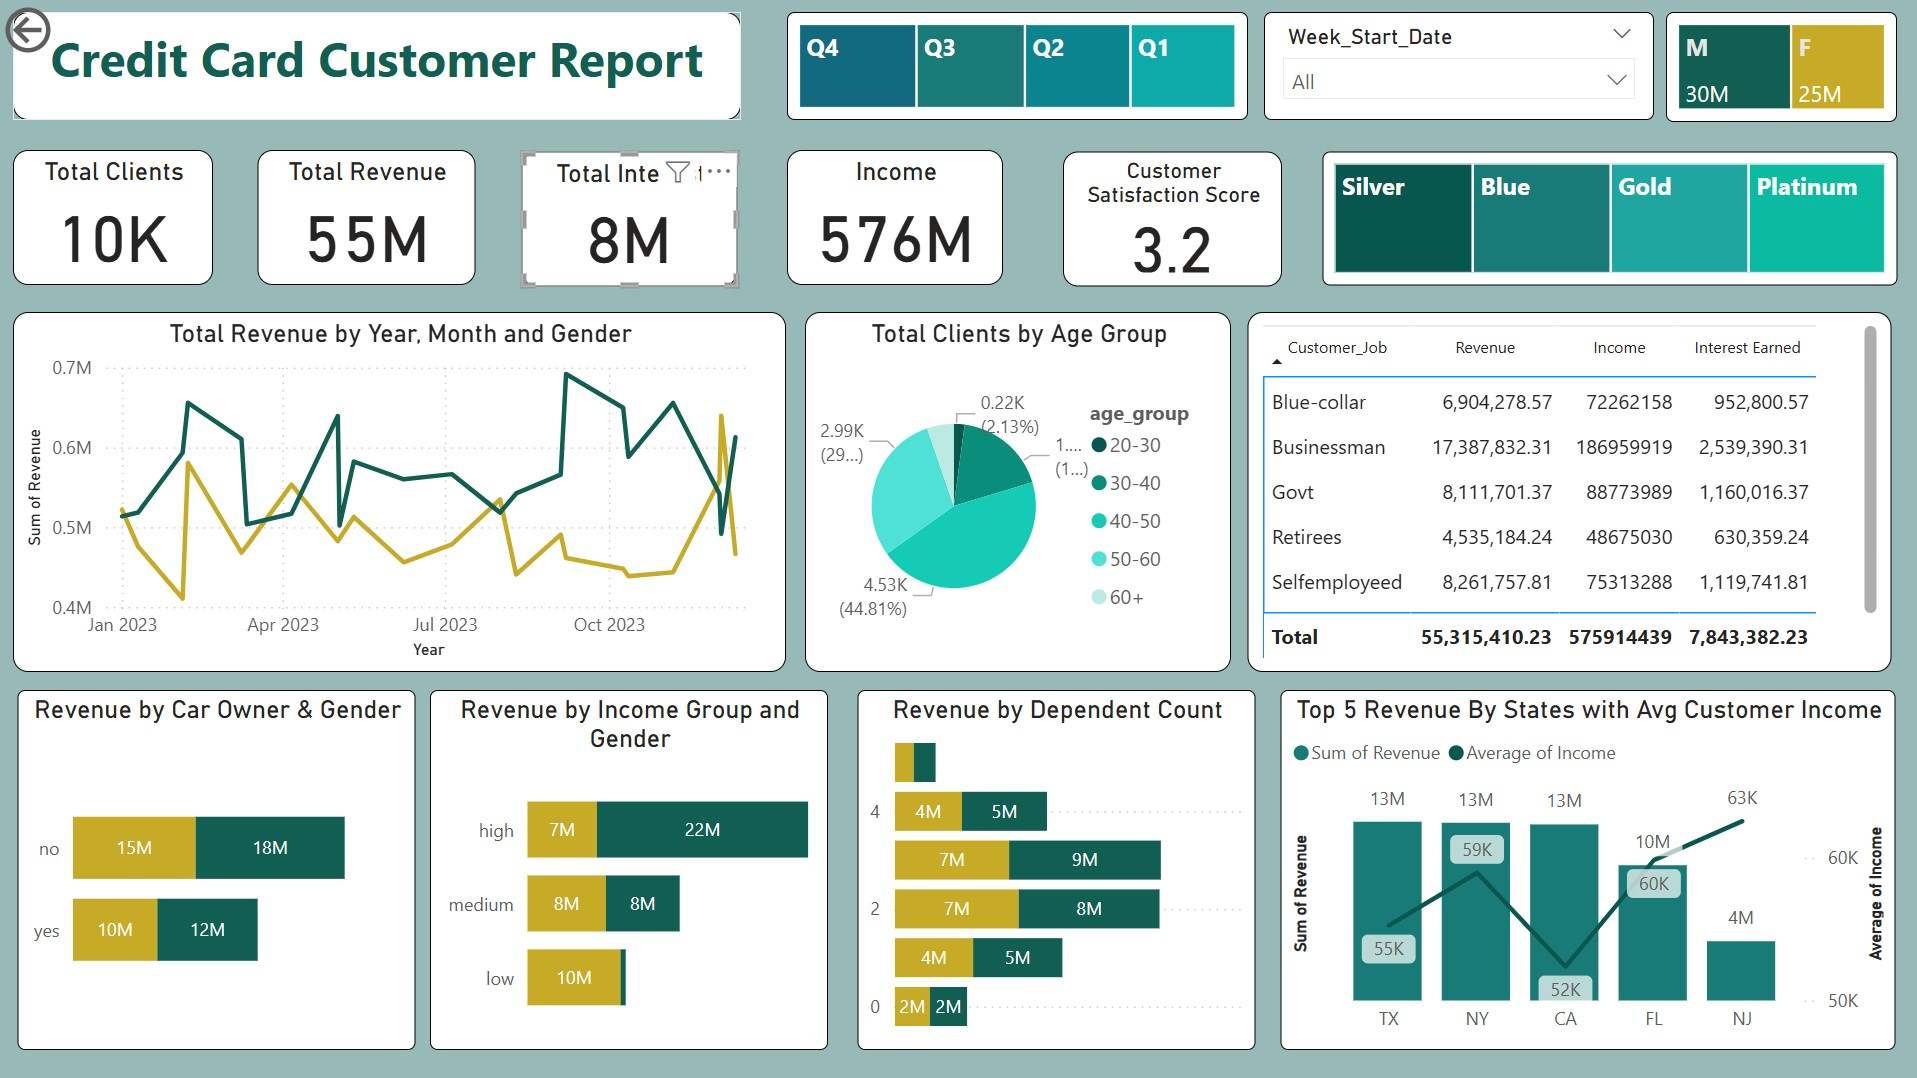

The page's visual inventory and layout, read from the dashboard file:
{"tool":"powerbi","page":{"name":"Page 1","canvas":[1280,720],"ordinal":1},"visuals":[{"type":"textbox","box":[10,7.5,485,72.5],"z":0},{"type":"lineStackedColumnComboChart","title":"Top 5 Revenue By States with Avg Customer Income","fields":{"Y":["Sum(credit_card.Revenue)"],"Category":["customer.state_cd"],"Y2":["Avg(customer.Income)"]},"box":[855,460,410,240],"z":1000},{"type":"barChart","title":"Revenue by Car Owner &  Gender","fields":{"Y":["Sum(credit_card.Revenue)"],"Category":["customer.Car_Owner"],"Series":["customer.Gender"]},"box":[12.5,460,265,240],"z":2000},{"type":"tableEx","fields":{"Values":["customer.Customer_Job","Sum(credit_card.Revenue)","Sum(customer.Income)","Sum(credit_card.Interest_Earned)"]},"box":[833.3,207.8,428.9,240],"z":3000},{"type":"card","title":"Total Revenue","fields":{"Values":["Sum(credit_card.Revenue)"]},"box":[173,100,145,90],"z":4000},{"type":"card","title":"Total Clients","fields":{"Values":["CountNonNull(customer.Client_Num)"]},"box":[10,100,133,90],"z":5000},{"type":"card","title":"Income","fields":{"Values":["Sum(customer.Income)"]},"box":[525.6,100,144.4,90],"z":6000},{"type":"card","title":"Total Interest","fields":{"Values":["Sum(credit_card.Interest_Earned)"]},"box":[348.9,101.1,144.4,90],"z":7000},{"type":"card","title":"Customer Satisfaction Score","fields":{"Values":["Avg(customer.Cust_Satisfaction_Score)"]},"box":[710,101.1,145.6,90],"z":8000},{"type":"slicer","fields":{"Values":["credit_card.Week_Start_Date"]},"box":[844.4,7.8,260,72.2],"z":9000},{"type":"treemap","fields":{"Group":["credit_card.Qtr"],"Values":["Avg(credit_card.Client_Num)"]},"box":[525.6,7.8,307.8,72.2],"z":10000},{"type":"treemap","fields":{"Group":["customer.Gender"],"Values":["Sum(credit_card.Revenue)"]},"box":[1112.2,7.8,153.3,73.3],"z":11000},{"type":"treemap","fields":{"Group":["credit_card.Card_Category"],"Values":["Avg(credit_card.Client_Num)"]},"box":[883.3,101.1,382.2,88.9],"z":12000},{"type":"pieChart","title":"Total Clients by Age Group","fields":{"Y":["CountNonNull(customer.Client_Num)"],"Category":["customer.age_group"]},"box":[537.8,207.8,284.4,240],"z":13000},{"type":"lineChart","title":"Total Revenue by Year, Month and Gender","fields":{"Y":["Sum(credit_card.Revenue)"],"Series":["customer.Gender"],"Category":["credit_card.Week_Start_Date.Variation.Date Hierarchy.Year","credit_card.Week_Start_Date.Variation.Date Hierarchy.Month","credit_card.Week_Start_Date.Variation.Date Hierarchy.Day"]},"box":[10,207.5,515,240],"z":14000},{"type":"barChart","title":"Revenue by Income Group and Gender","fields":{"Y":["Sum(credit_card.Revenue)"],"Category":["customer.IncomeGroup"],"Series":["customer.Gender"]},"box":[287.5,460,265,240],"z":15000},{"type":"barChart","title":"Revenue by Dependent Count","fields":{"Y":["Sum(credit_card.Revenue)"],"Category":["customer.Dependent_Count"],"Series":["customer.Gender"]},"box":[572.5,460,265,240],"z":15001},{"type":"actionButton","box":[0,0,100,40],"z":15002}]}

Visuals, with their boxes in screenshot pixels (x1, y1, x2, y2), scaled from the page's 1280x720 canvas onto the 1917x1078 screenshot:
textbox: <box>15,11,741,120</box>
"Top 5 Revenue By States with Avg Customer Income" lineStackedColumnComboChart: <box>1280,689,1895,1048</box>
"Revenue by Car Owner &  Gender" barChart: <box>19,689,416,1048</box>
tableEx - customer.Customer_Job x Sum(credit_card.Revenue): <box>1248,311,1890,670</box>
"Total Revenue" card: <box>259,150,476,284</box>
"Total Clients" card: <box>15,150,214,284</box>
"Income" card: <box>787,150,1003,284</box>
"Total Interest" card: <box>523,151,739,286</box>
"Customer Satisfaction Score" card: <box>1063,151,1281,286</box>
slicer - credit_card.Week_Start_Date: <box>1265,12,1654,120</box>
treemap - credit_card.Qtr x Avg(credit_card.Client_Num): <box>787,12,1248,120</box>
treemap - customer.Gender x Sum(credit_card.Revenue): <box>1666,12,1895,121</box>
treemap - credit_card.Card_Category x Avg(credit_card.Client_Num): <box>1323,151,1895,284</box>
"Total Clients by Age Group" pieChart: <box>805,311,1231,670</box>
"Total Revenue by Year, Month and Gender" lineChart: <box>15,311,786,670</box>
"Revenue by Income Group and Gender" barChart: <box>431,689,827,1048</box>
"Revenue by Dependent Count" barChart: <box>857,689,1254,1048</box>
actionButton: <box>0,0,150,60</box>
